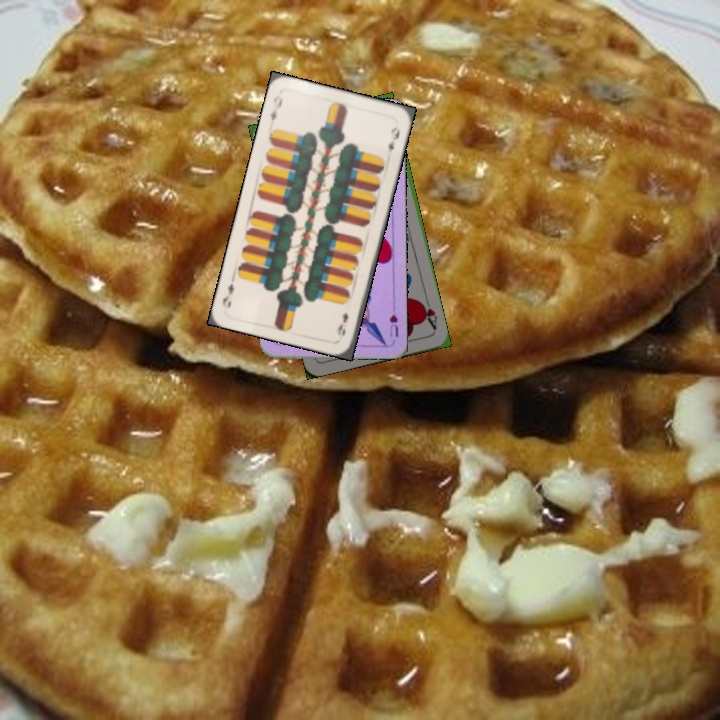E9: (266, 90, 285, 123), (333, 308, 351, 339)
HA: (416, 298, 440, 332)
HU: (385, 302, 401, 339)
